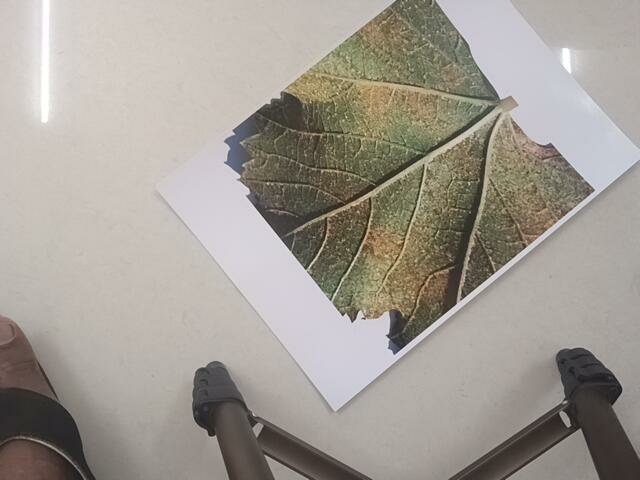Grape_Rust_Fungus: (220, 1, 605, 341)
